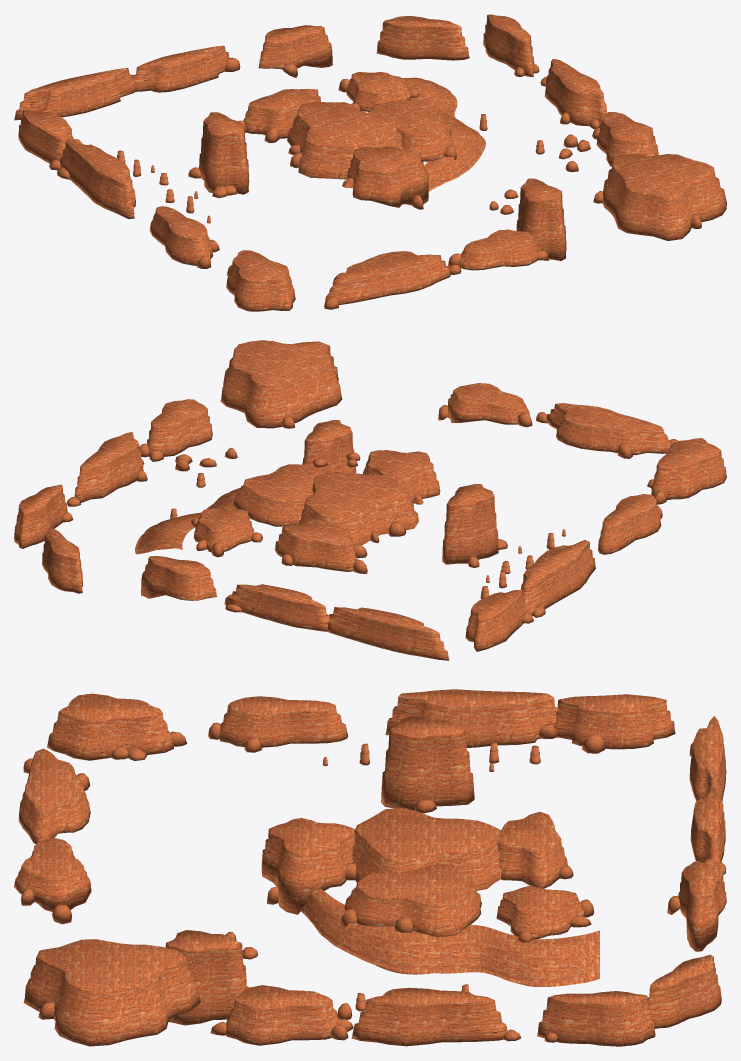
File: desert-detail-game.glb
The picture shows the model from 3 angles, top to bottom: view 1: azimuth 30°, elevation 25°; view 2: azimuth 150°, elevation 25°; view 3: azimuth 270°, elevation 25°; orthographic projection. The views are drawn at different scales.
Visible parts, largest first — view 1: DETAIL_RockFormation_15_LOD0, DETAIL_RockFormation_01_LOD0, DETAIL_RockFormation_16_LOD0, DETAIL_SouthernMesa_LOD0, DETAIL_RockFormation_09_LOD0, DETAIL_RockFormation_05_LOD0, DETAIL_RockFormation_20_LOD0, DETAIL_RockFormation_04_LOD0, DETAIL_RockFormation_08_LOD0, DETAIL_RockFormation_00_LOD0, DETAIL_RockFormation_10_LOD0, DETAIL_RockFormation_03_LOD0 (+15 smaller); view 2: DETAIL_RockFormation_15_LOD0, DETAIL_RockFormation_01_LOD0, DETAIL_RockFormation_16_LOD0, DETAIL_RockFormation_09_LOD0, DETAIL_RockFormation_04_LOD0, DETAIL_RockFormation_03_LOD0, DETAIL_RockFormation_05_LOD0, DETAIL_RockFormation_08_LOD0, DETAIL_RockFormation_02_LOD0, DETAIL_RockFormation_10_LOD0, DETAIL_RockFormation_13_LOD0, DETAIL_RockFormation_14_LOD0 (+14 smaller); view 3: DETAIL_RockFormation_15_LOD0, DETAIL_RockFormation_00_LOD0, DETAIL_RockFormation_01_LOD0, DETAIL_RockFormation_13_LOD0, DETAIL_RockFormation_03_LOD0, DETAIL_RockFormation_04_LOD0, DETAIL_RockFormation_05_LOD0, DETAIL_SouthernMesa_LOD0, DETAIL_RockFormation_08_LOD0, DETAIL_RockFormation_12_LOD0, DETAIL_RockFormation_14_LOD0, DETAIL_RockFormation_07_LOD0 (+14 smaller).
Part boxes in pixels (x1,y1,x2,y2): DETAIL_RockFormation_15_LOD0: (602,154,726,240); DETAIL_RockFormation_01_LOD0: (287,102,402,179); DETAIL_RockFormation_16_LOD0: (324,251,450,304); DETAIL_SouthernMesa_LOD0: (347,146,428,207); DETAIL_RockFormation_09_LOD0: (14,68,135,120); DETAIL_RockFormation_05_LOD0: (59,139,135,219); DETAIL_RockFormation_20_LOD0: (376,16,469,60); DETAIL_RockFormation_04_LOD0: (199,112,249,194); DETAIL_RockFormation_08_LOD0: (226,250,295,311); DETAIL_RockFormation_00_LOD0: (402,77,485,191); DETAIL_RockFormation_10_LOD0: (133,45,229,92); DETAIL_RockFormation_03_LOD0: (368,100,453,161); DETAIL_RockFormation_15_LOD0: (220,340,342,428); DETAIL_RockFormation_01_LOD0: (298,472,418,544); DETAIL_RockFormation_16_LOD0: (546,403,671,455); DETAIL_RockFormation_09_LOD0: (327,607,449,660); DETAIL_RockFormation_04_LOD0: (442,484,498,564); DETAIL_RockFormation_03_LOD0: (233,464,324,526); DETAIL_RockFormation_05_LOD0: (521,540,595,616); DETAIL_RockFormation_08_LOD0: (651,438,726,499); DETAIL_RockFormation_02_LOD0: (274,519,356,571); DETAIL_RockFormation_10_LOD0: (228,584,329,631); DETAIL_RockFormation_13_LOD0: (74,432,143,502); DETAIL_RockFormation_14_LOD0: (147,399,212,457); DETAIL_RockFormation_15_LOD0: (23,939,200,1046); DETAIL_RockFormation_00_LOD0: (301,888,599,986); DETAIL_RockFormation_01_LOD0: (352,807,500,890); DETAIL_RockFormation_13_LOD0: (351,987,507,1046); DETAIL_RockFormation_03_LOD0: (344,863,481,937); DETAIL_RockFormation_04_LOD0: (381,716,474,810); DETAIL_RockFormation_05_LOD0: (385,689,558,747); DETAIL_SouthernMesa_LOD0: (261,818,355,914); DETAIL_RockFormation_08_LOD0: (47,693,173,760); DETAIL_RockFormation_12_LOD0: (537,991,655,1046); DETAIL_RockFormation_14_LOD0: (226,985,341,1045); DETAIL_RockFormation_07_LOD0: (554,694,675,749).
Size of what is drawn, in the model's own units: 867 by 196 by 865.
4 materials, 4 textured.
